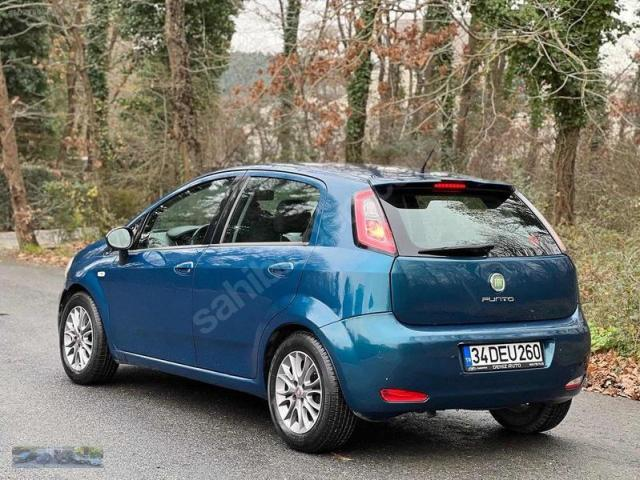plaka: (463, 342, 544, 371)
